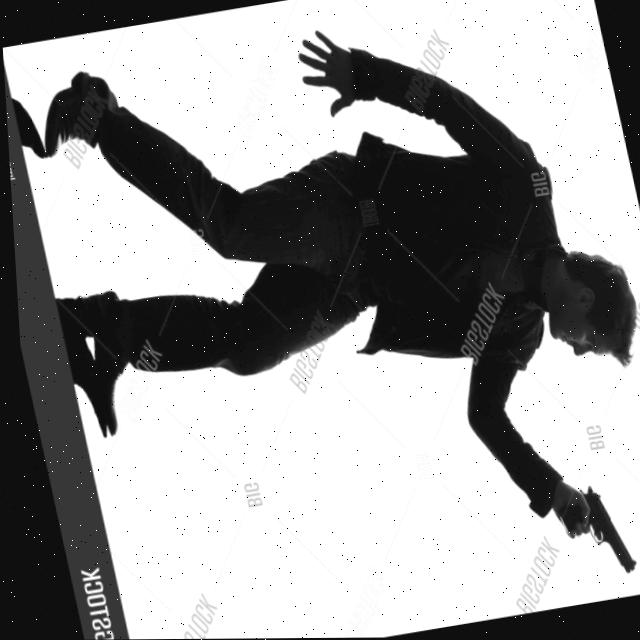pistol: (572, 480, 632, 579)
